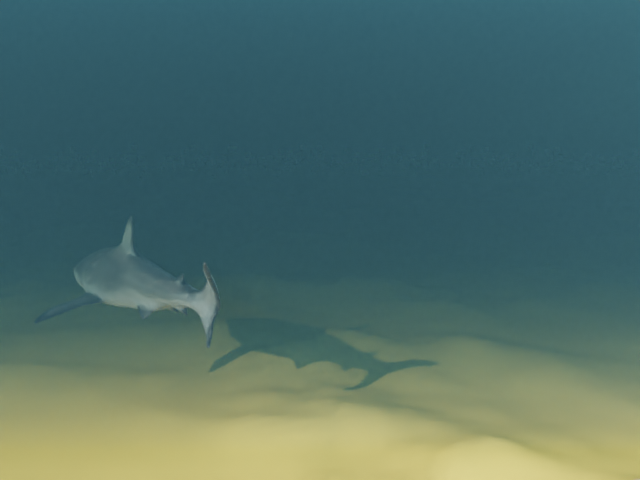Carribean Shark.001: (33, 215, 220, 348)
